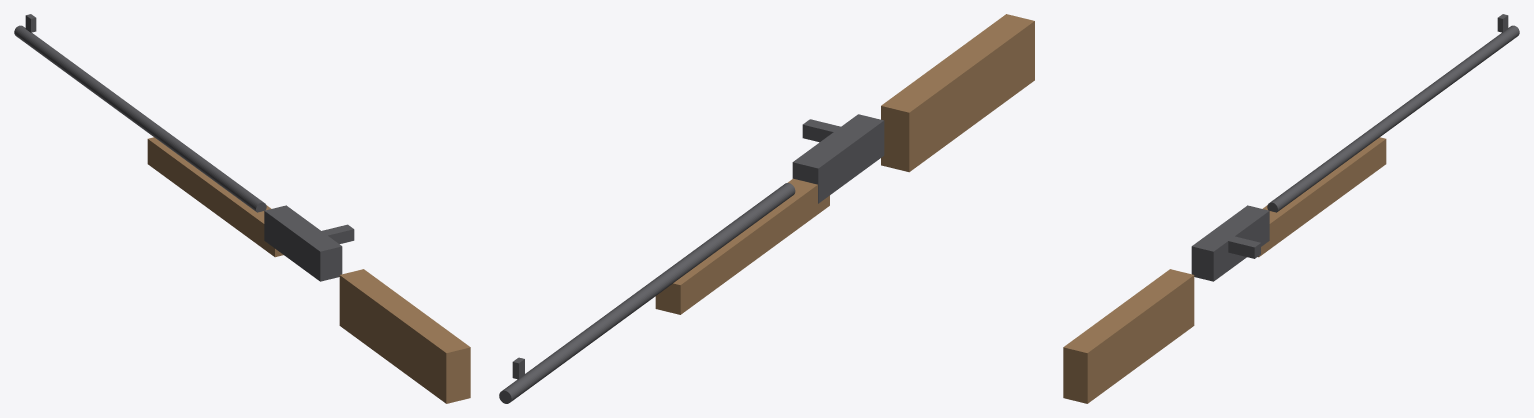
Rendered from rifle_kar98k.glb.
The picture shows the model from 3 angles, left to right: view 1: azimuth 30°, elevation 25°; view 2: azimuth 150°, elevation 25°; view 3: azimuth 330°, elevation 25°; orthographic projection. The views are drawn at different scales.
Visible parts, largest first — view 1: Rifle; view 2: Rifle; view 3: Rifle.
Part boxes in pixels (x1,y1,x2,y2): Rifle: (14,14,470,403); Rifle: (499,14,1034,403); Rifle: (1063,14,1519,403).
Bounding box in the file's own units: 0.1125 × 0.155 × 1.73.
